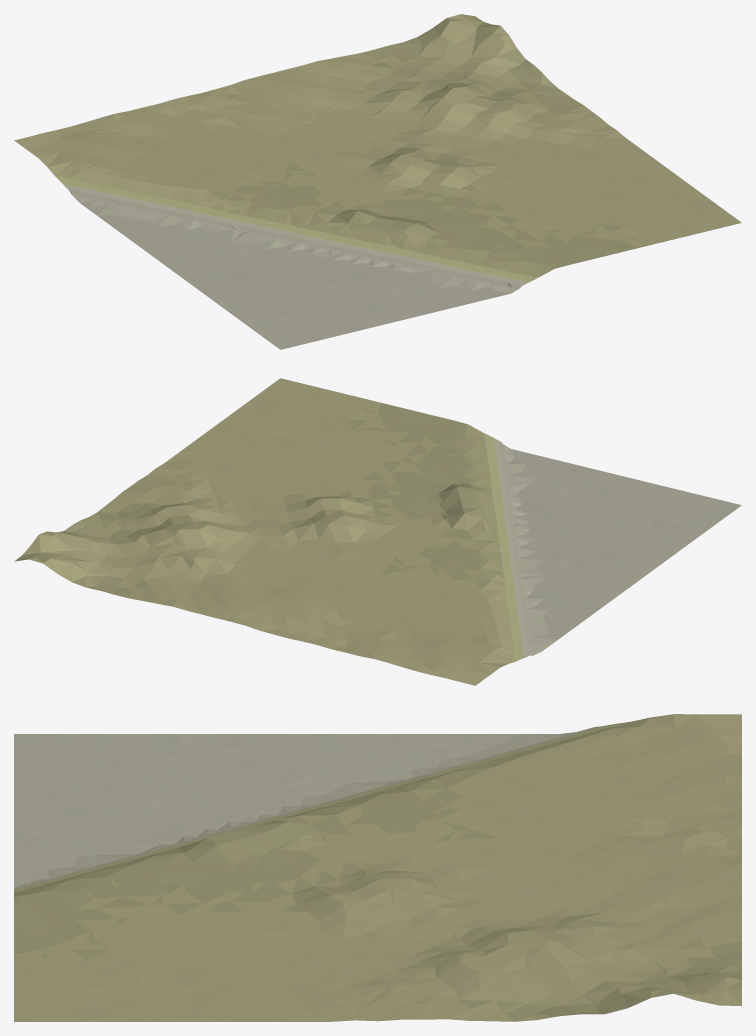
File: Ground_-5_-6.glb
3 renders of one model, top to bottom at view 1: azimuth 30°, elevation 25°; view 2: azimuth 150°, elevation 25°; view 3: azimuth 270°, elevation 25°, orthographic. The views are drawn at different scales.
Parts seen in each view (by area): view 1: Ground_-5_-6; view 2: Ground_-5_-6; view 3: Ground_-5_-6.
Part boxes in pixels (x1,y1,x2,y2): Ground_-5_-6: (14, 14, 741, 349); Ground_-5_-6: (14, 378, 741, 685); Ground_-5_-6: (14, 714, 741, 1021).
Bounding box in the file's own units: 768 × 55.71 × 768.
